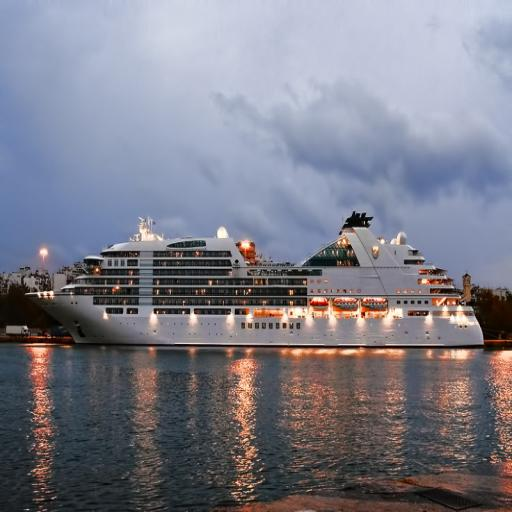cruises: (29, 198, 497, 360)
